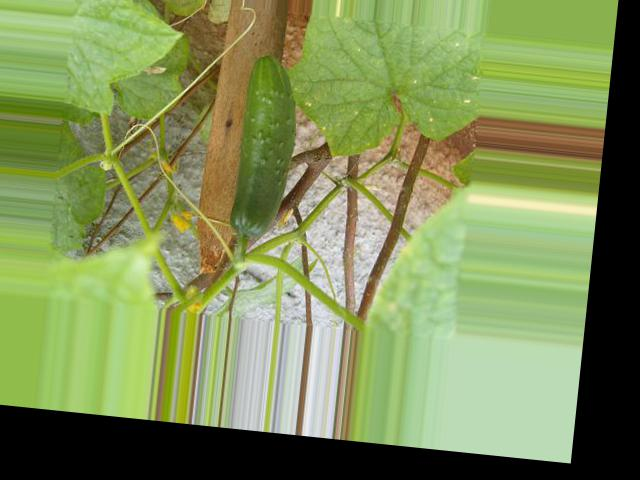cucumber: (227, 52, 303, 242)
